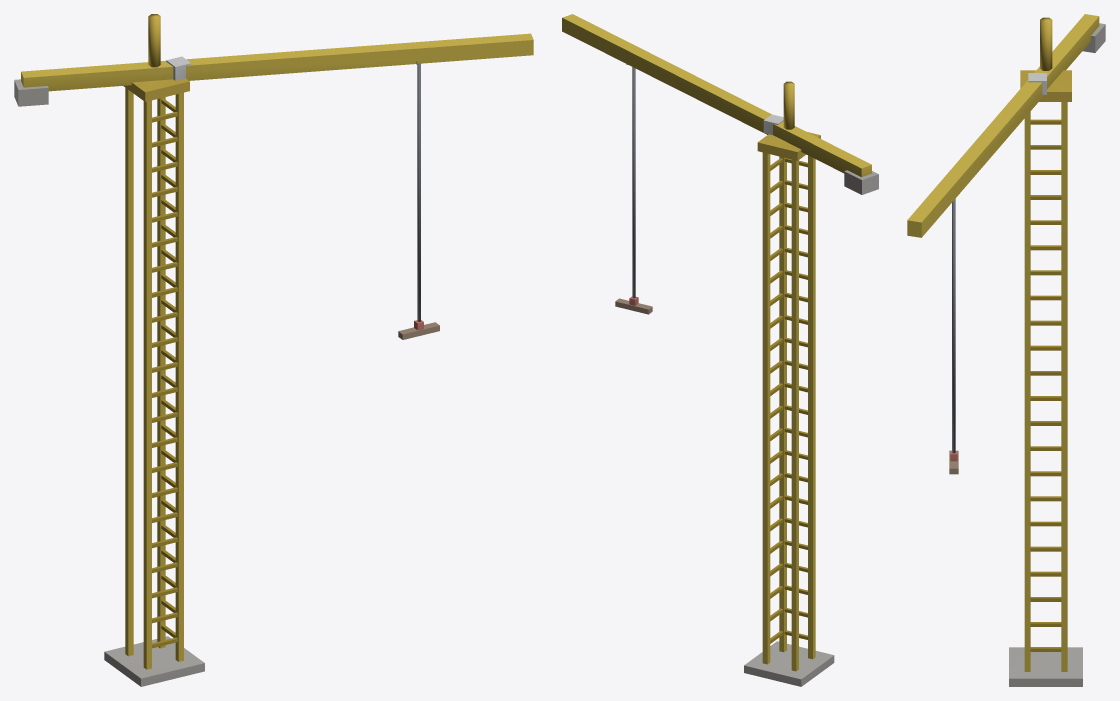
File: crane-2-3.glb
3 renders of one model, left to right at view 1: azimuth 30°, elevation 25°; view 2: azimuth 150°, elevation 25°; view 3: azimuth 270°, elevation 25°, orthographic. The views are drawn at different scales.
Parts seen in each view (by area): view 1: crane-2-3; view 2: crane-2-3; view 3: crane-2-3.
Boxes of the visible parts, x1,y1,x2,y2 form: crane-2-3: (14,14,533,686); crane-2-3: (562,14,878,686); crane-2-3: (907,14,1105,686).
Bounding box in the file's own units: 1.63 × 2.33 × 0.6451.
